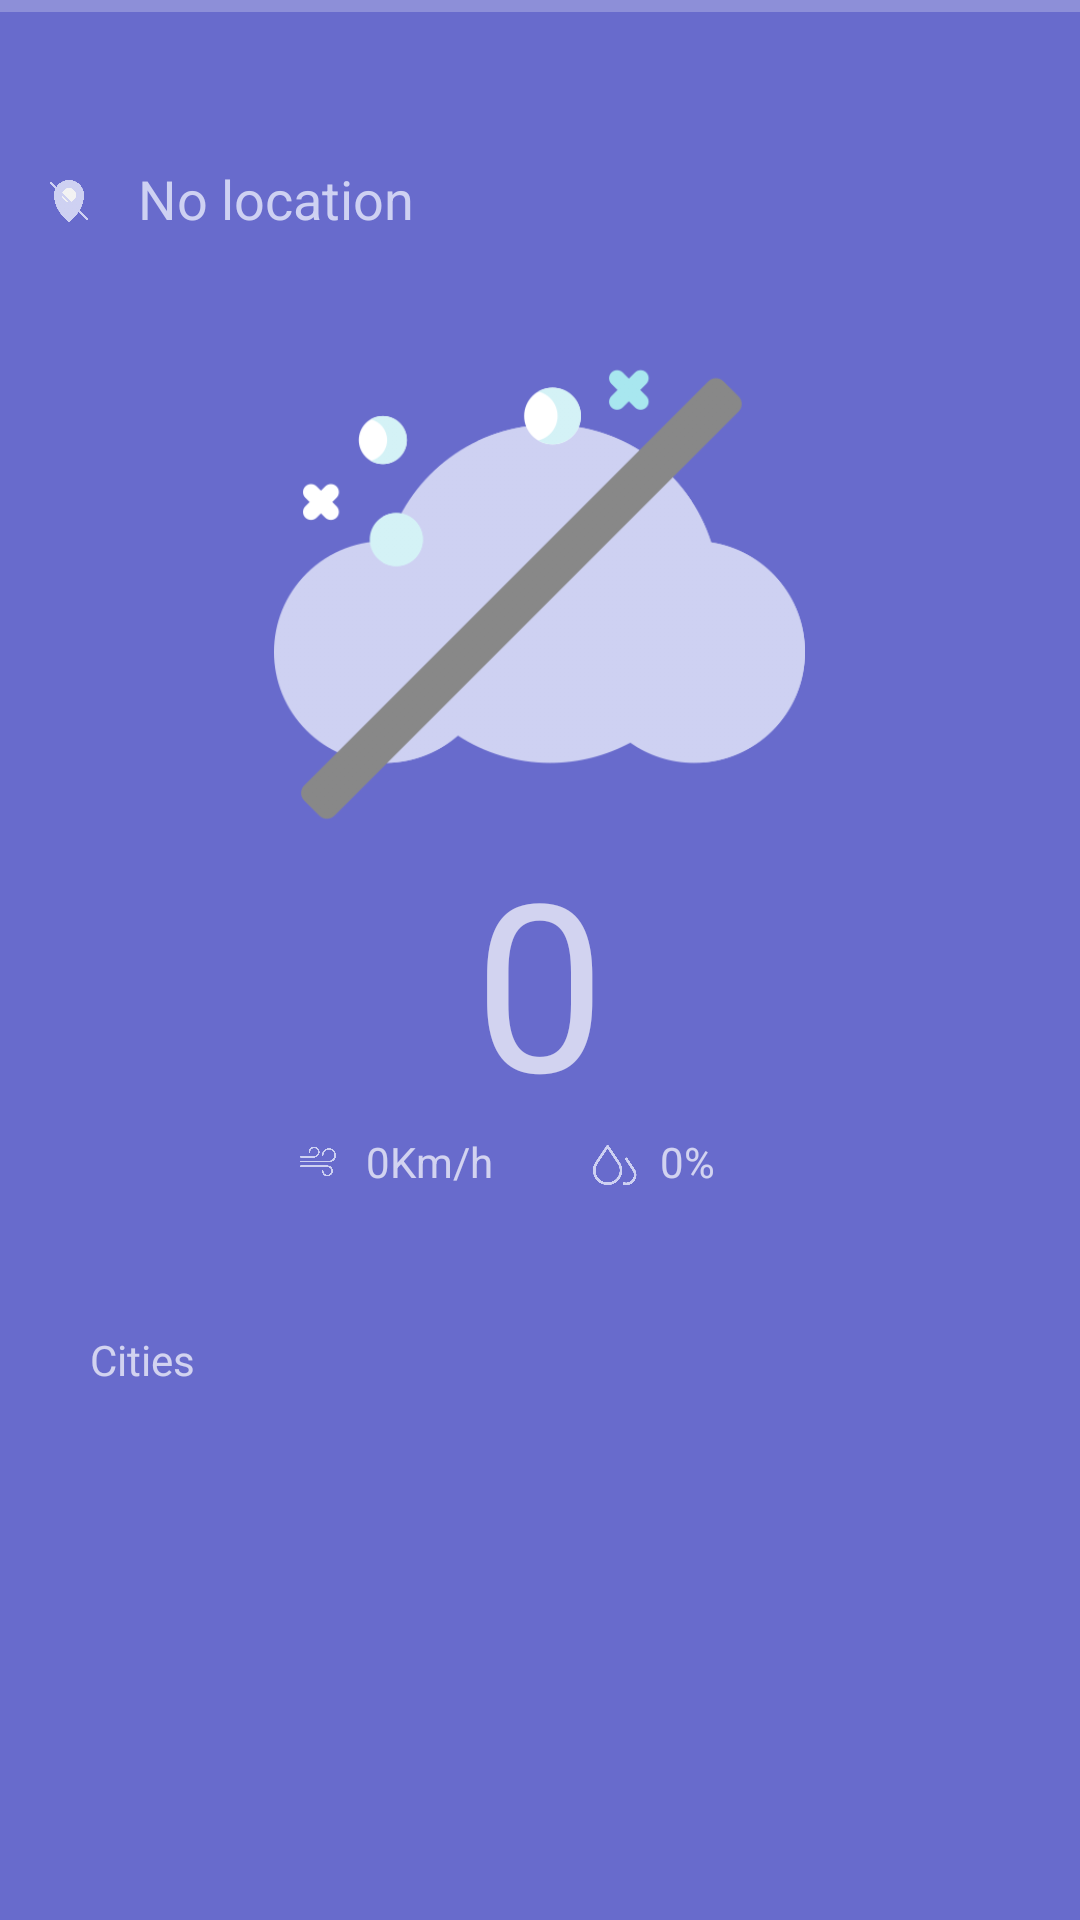

Icons on this 1080×1920 Android screen, each with the point to tap as (x,y):
humidity: (615,1165)
wind: (318,1161)
